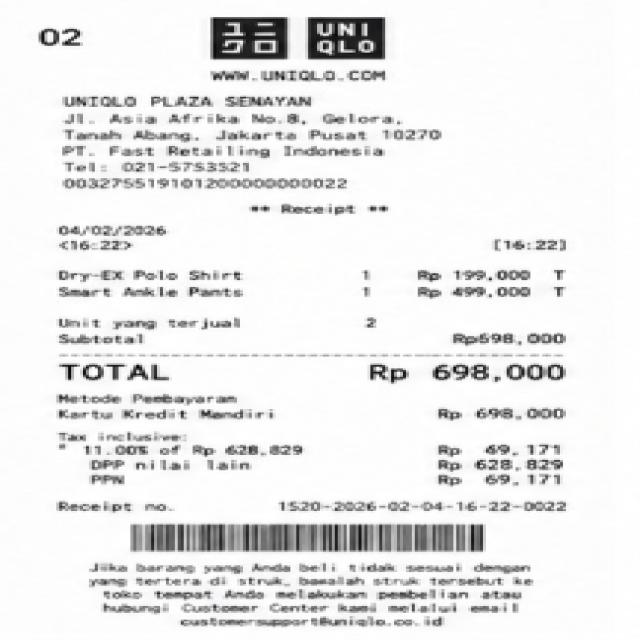date: (42, 220, 176, 252)
store: (199, 8, 401, 68), (49, 89, 321, 112)
total: (53, 357, 575, 384)
